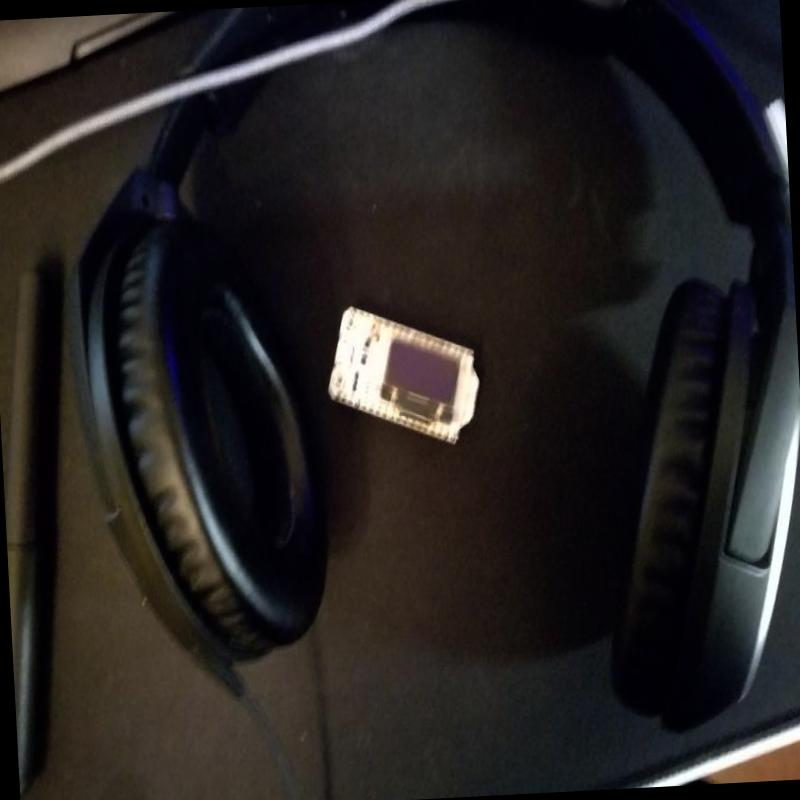Heltec_ESP32_Lora: (319, 292, 487, 454)
